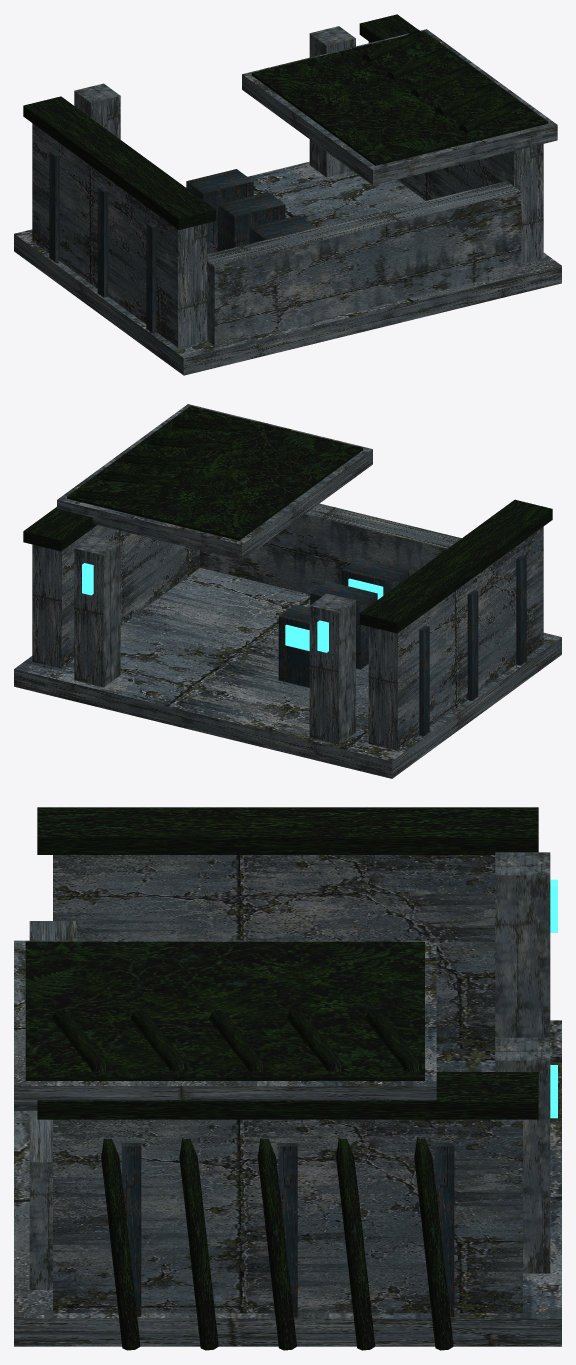
Rendered from flooded-lab.glb.
The picture shows the model from 3 angles, top to bottom: view 1: azimuth 30°, elevation 25°; view 2: azimuth 150°, elevation 25°; view 3: azimuth 270°, elevation 25°; orthographic projection. The views are drawn at different scales.
Parts seen in each view (by area): view 1: flooded-lab-concrete, flooded-lab-moss, flooded-lab-steel; view 2: flooded-lab-concrete, flooded-lab-moss, flooded-lab-steel, flooded-lab-lamp; view 3: flooded-lab-concrete, flooded-lab-moss, flooded-lab-steel, flooded-lab-lamp.
Boxes of the visible parts, box(x1,y1,x2,y2) form: flooded-lab-concrete: box(14, 26, 561, 375); flooded-lab-moss: box(23, 14, 547, 229); flooded-lab-steel: box(49, 151, 316, 332); flooded-lab-concrete: box(14, 404, 561, 778); flooded-lab-moss: box(23, 406, 552, 633); flooded-lab-steel: box(278, 554, 526, 736); flooded-lab-lamp: box(82, 563, 383, 652); flooded-lab-concrete: box(14, 852, 561, 1346); flooded-lab-moss: box(25, 807, 538, 1350); flooded-lab-steel: box(121, 1143, 454, 1316); flooded-lab-lamp: box(550, 879, 557, 1118).
Bounding box in the file's own units: 9.11 × 3.83 × 7.
4 materials, 3 textured.
